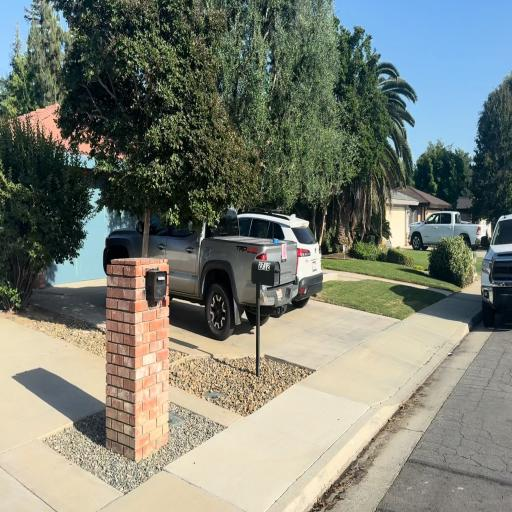bullseye: (282, 243, 287, 259)
